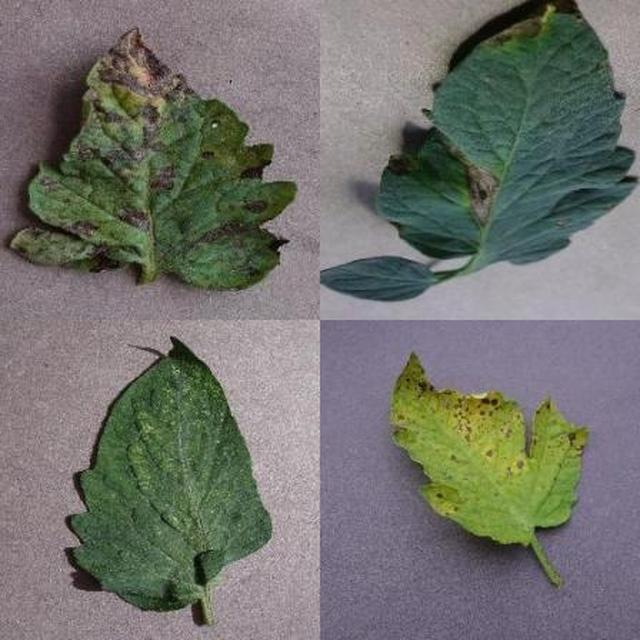Early Blight Leaf: (161, 69, 640, 640)
